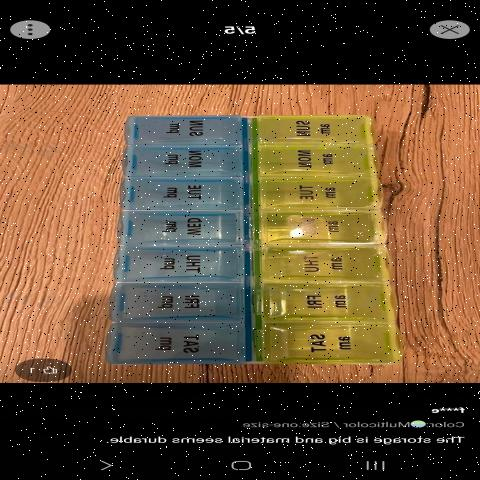Pill-box: (89, 88, 407, 389)
